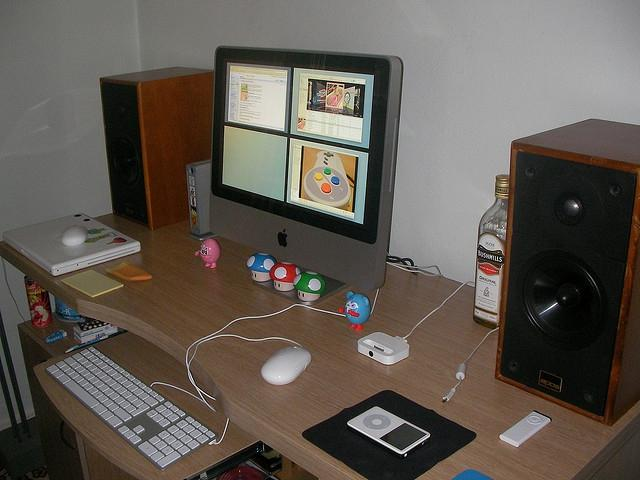mushroom: (294, 270, 326, 302), (270, 262, 302, 292), (246, 252, 278, 282)
